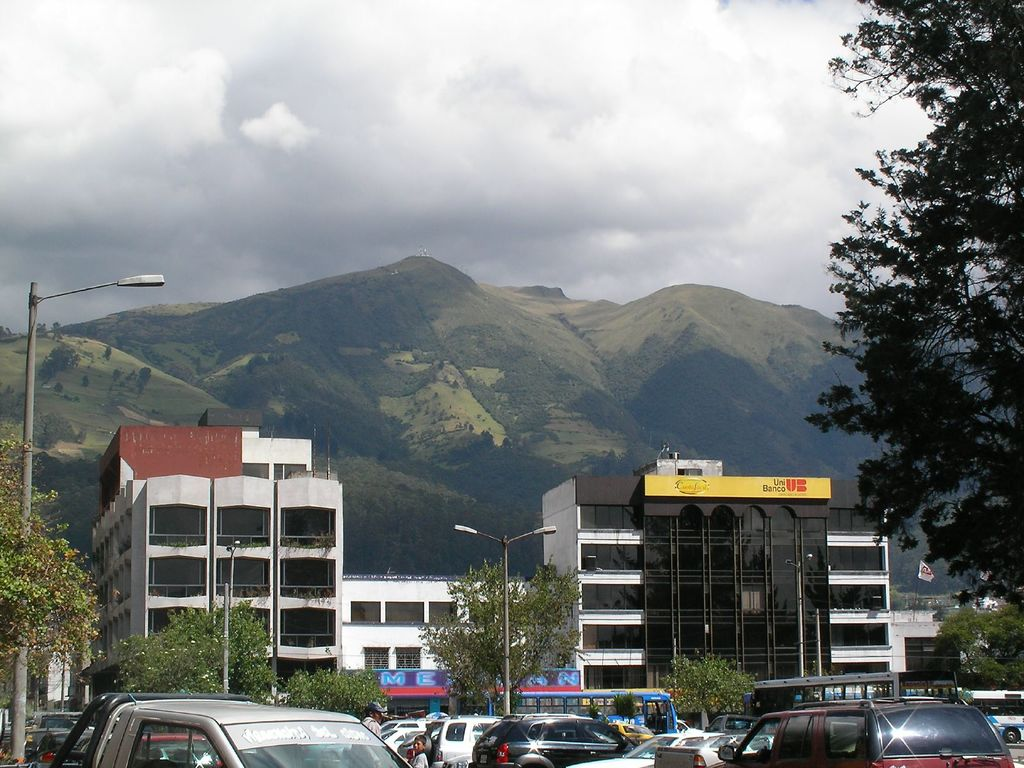Tree: (812, 30, 1001, 672), (407, 560, 590, 716), (0, 430, 99, 705), (113, 591, 270, 700), (935, 598, 1023, 684), (659, 649, 748, 720), (286, 664, 389, 720)
